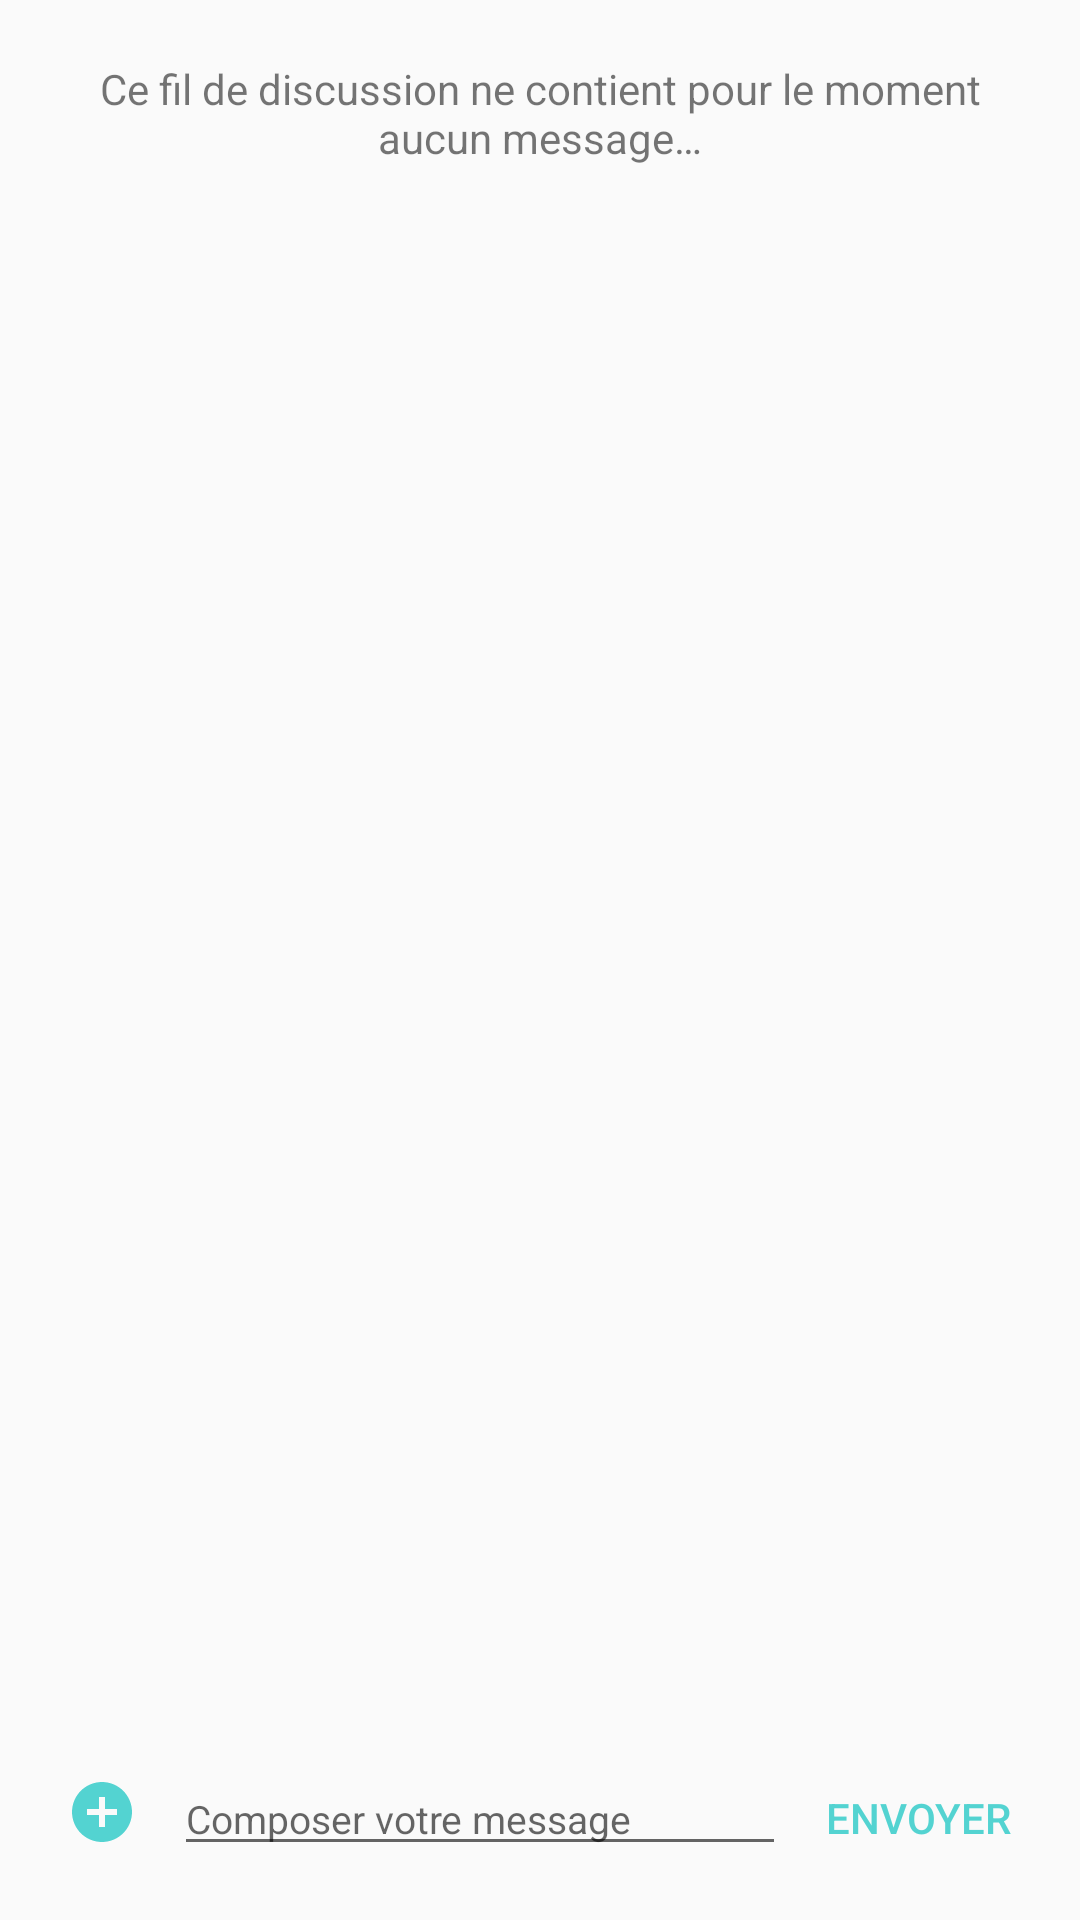

Named icons in this screenshot (1080 x 1920) and their bounding boxes, (x1, y1, x2, y2):
add turquoise: (72, 1782, 132, 1842)
